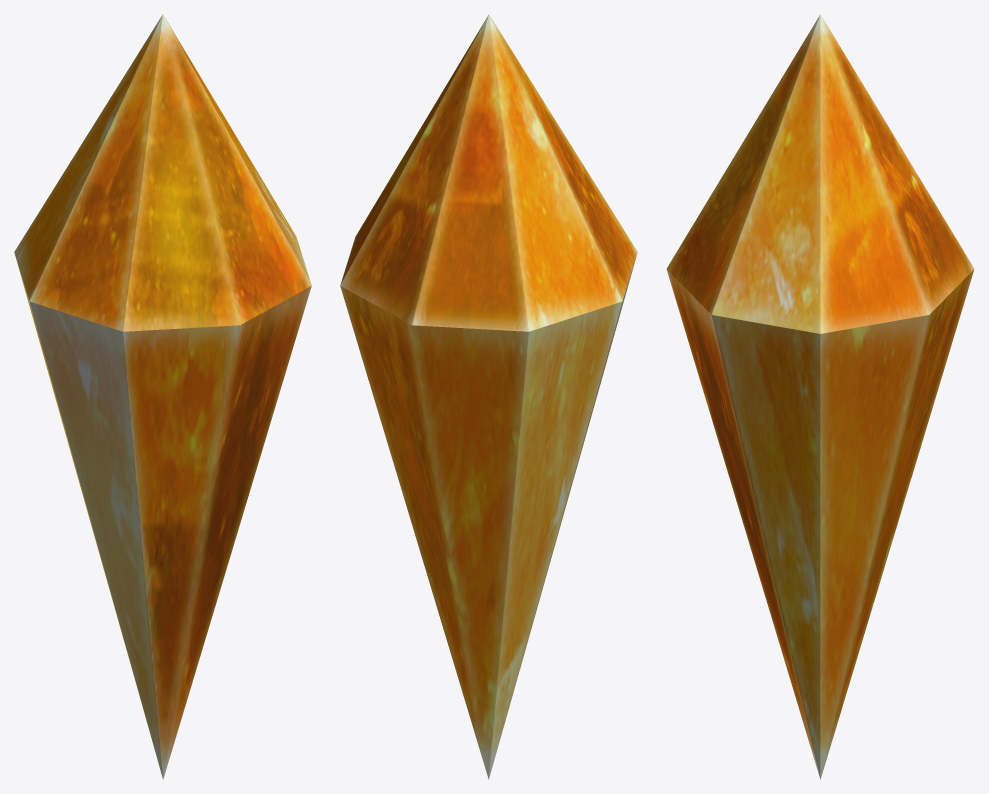
3 renders of one model, left to right at view 1: azimuth 30°, elevation 25°; view 2: azimuth 150°, elevation 25°; view 3: azimuth 270°, elevation 25°, orthographic.
Parts seen in each view (by area): view 1: ct_ma30; view 2: ct_ma30; view 3: ct_ma30.
Part boxes in pixels (<box>): ct_ma30: <box>14,14,311,779</box>; ct_ma30: <box>340,14,637,779</box>; ct_ma30: <box>666,14,974,779</box>.
Size of the model in its own units: 0.1094 by 0.3002 by 0.1094.
1 material, 1 textured.
